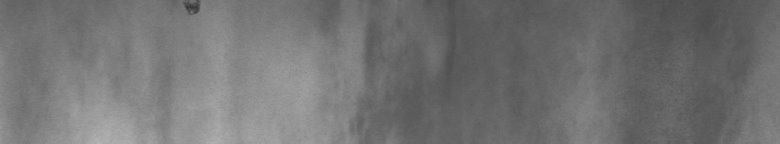fi: (180, 4, 205, 21)
